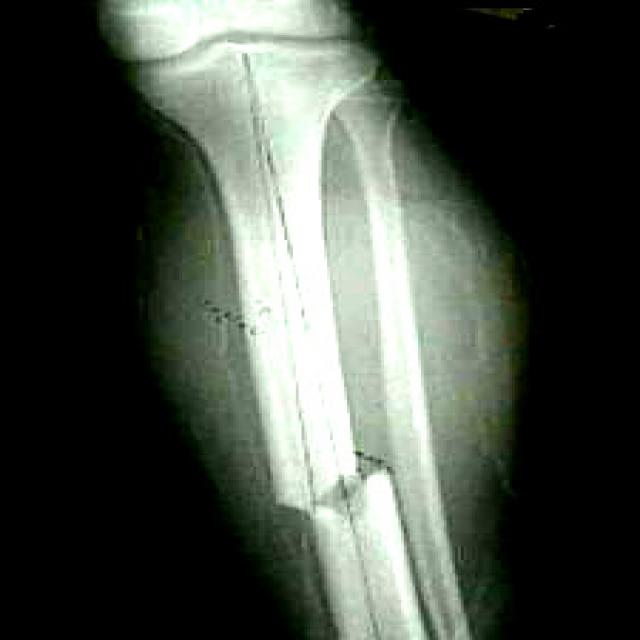Broken: (130, 45, 381, 496), (291, 458, 422, 638)
